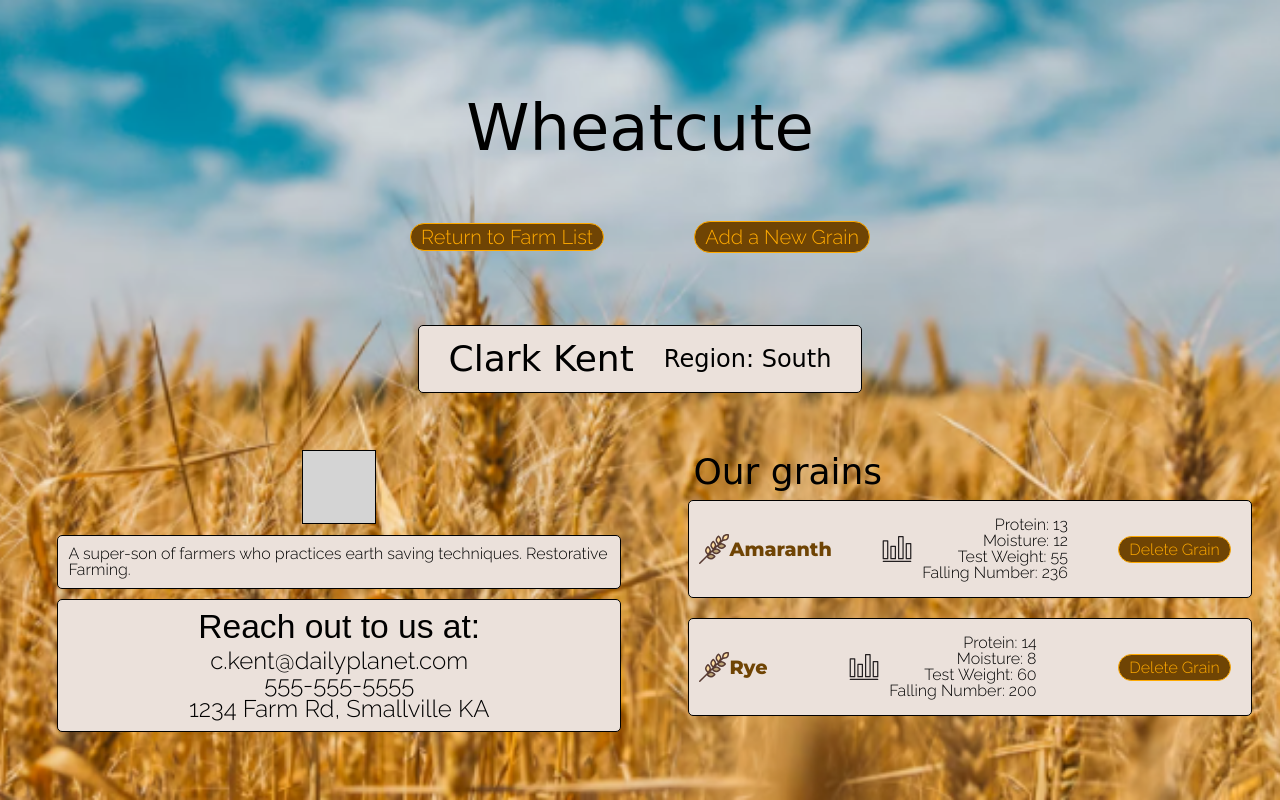
Scenario: new grain modal › should be able to open the new-grain form modal
Click the button "Add a New Grain" at (782, 237), box x1=694 y1=221 x2=870 y2=253
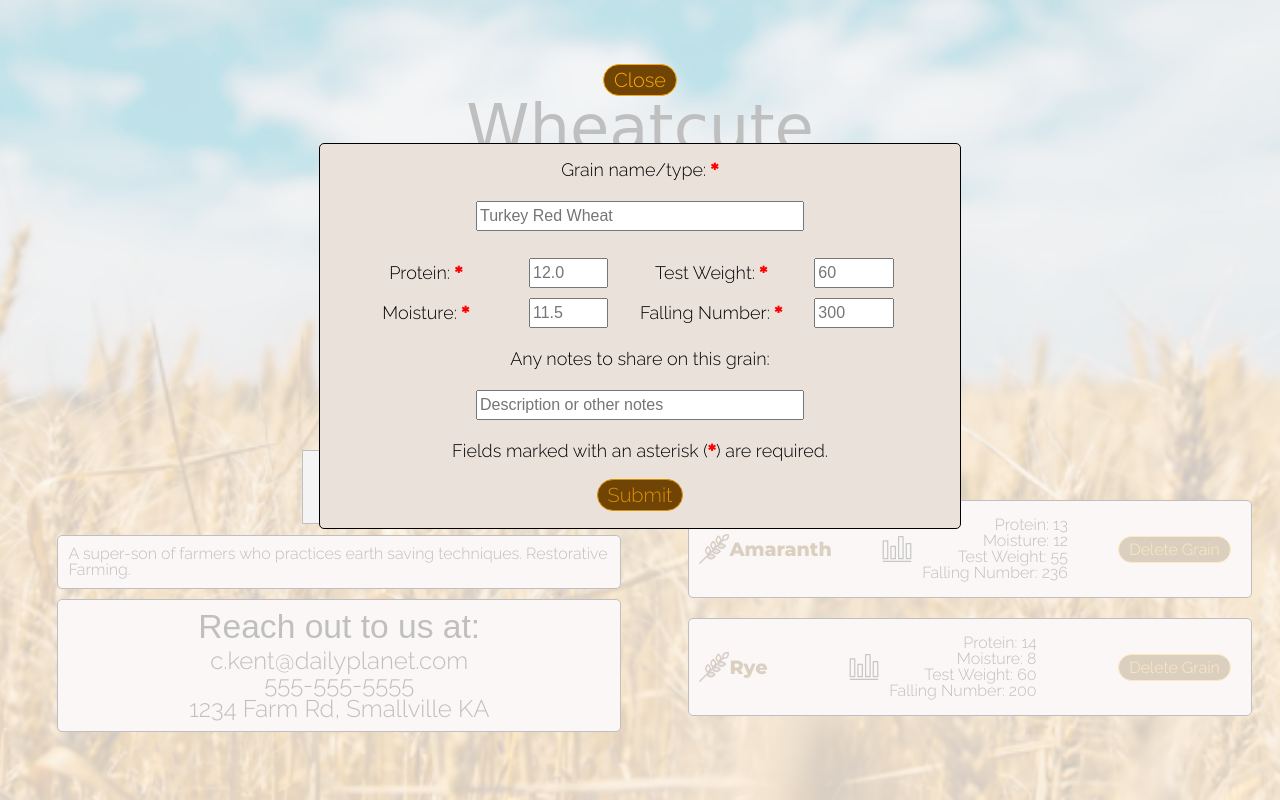
Expected: the dialog with class "new-grain-modal" is shown, x1=319 y1=64 x2=961 y2=529
